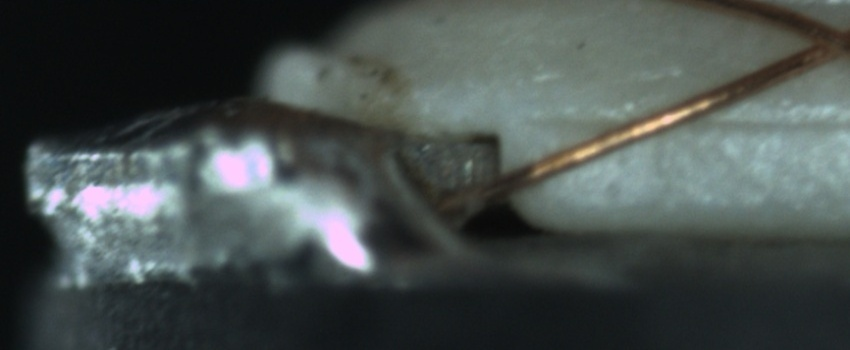CL: (791, 9, 849, 64)
DL: (541, 89, 850, 154)
